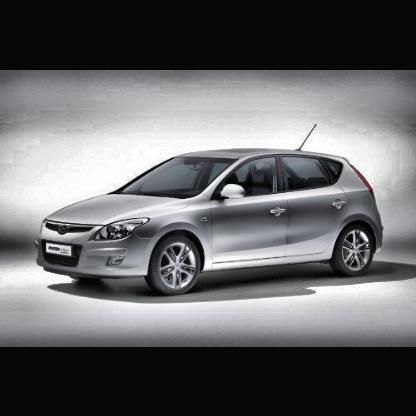Hyundai Elantra Touring Hatchback 2012: (36, 125, 384, 296)
